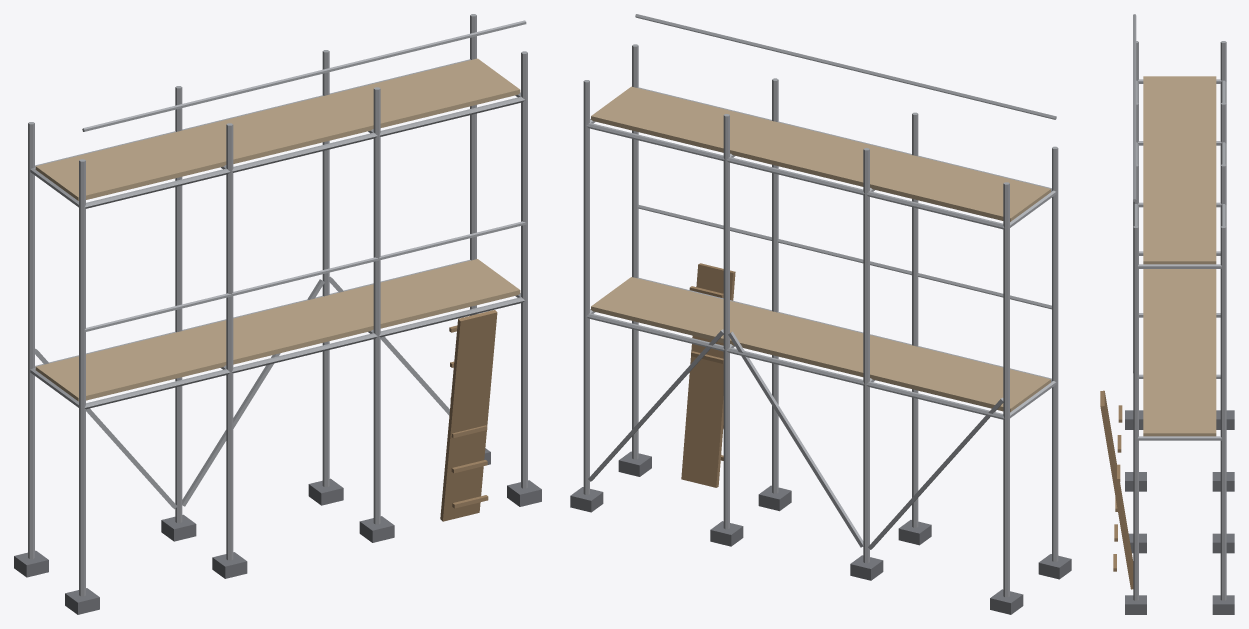
The model's file is Iskele.glb.
The picture shows the model from 3 angles, left to right: view 1: azimuth 30°, elevation 25°; view 2: azimuth 150°, elevation 25°; view 3: azimuth 270°, elevation 25°; orthographic projection. The views are drawn at different scales.
Parts seen in each view (by area): view 1: Iskele; view 2: Iskele; view 3: Iskele.
Boxes of the visible parts, x1,y1,x2,y2 form: Iskele: (14,14,541,614); Iskele: (570,14,1071,614); Iskele: (1100,14,1234,614).
Size of the model in its own units: 6.3 by 6.22 by 1.84.
